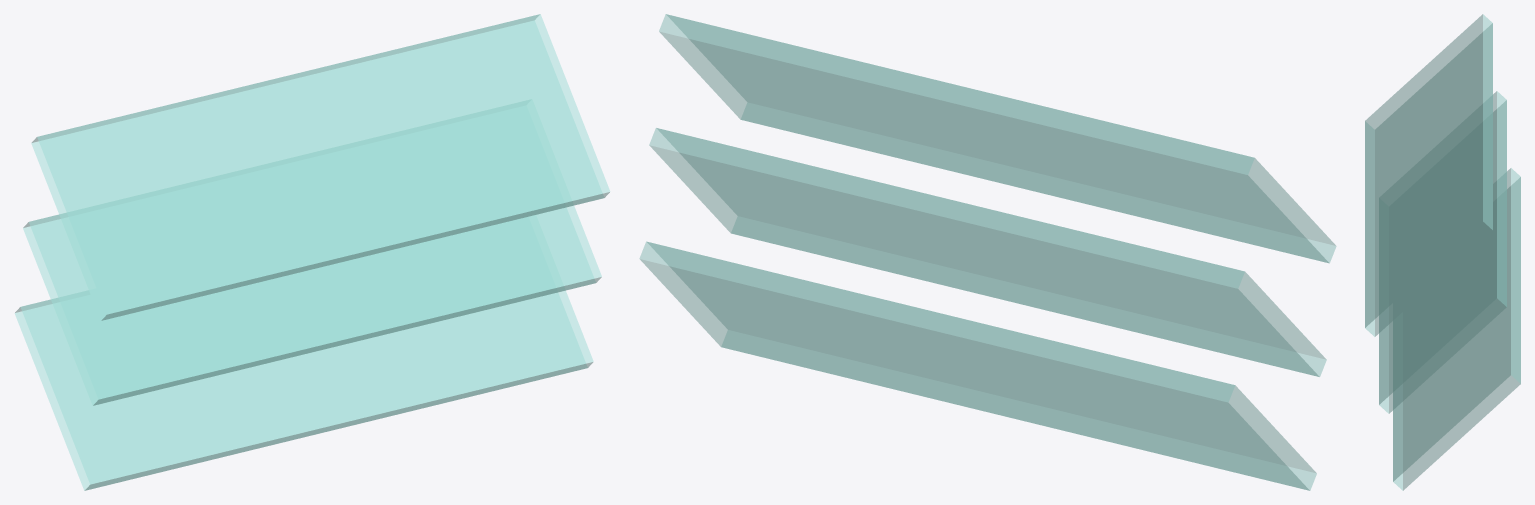
Rendered from Air Vent Thingy.fbx.
3 views of the same model, side by side, from view 1: azimuth 30°, elevation 25°; view 2: azimuth 150°, elevation 25°; view 3: azimuth 270°, elevation 25° (orthographic). The views are drawn at different scales.
Parts seen in each view (by area): view 1: Airvent thingy; view 2: Airvent thingy; view 3: Airvent thingy.
Boxes of the visible parts, bbox=[...] form: Airvent thingy: bbox=[14, 14, 610, 490]; Airvent thingy: bbox=[639, 14, 1336, 490]; Airvent thingy: bbox=[1365, 14, 1520, 490].
Size of the model in its own units: 533 by 323 by 169.
